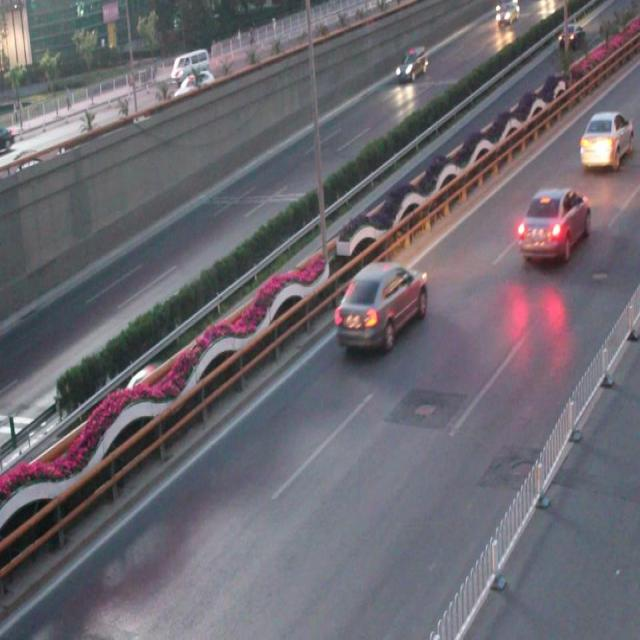car: (334, 261, 427, 347), (515, 187, 587, 255), (578, 114, 631, 168), (124, 359, 169, 403), (392, 44, 427, 82)
